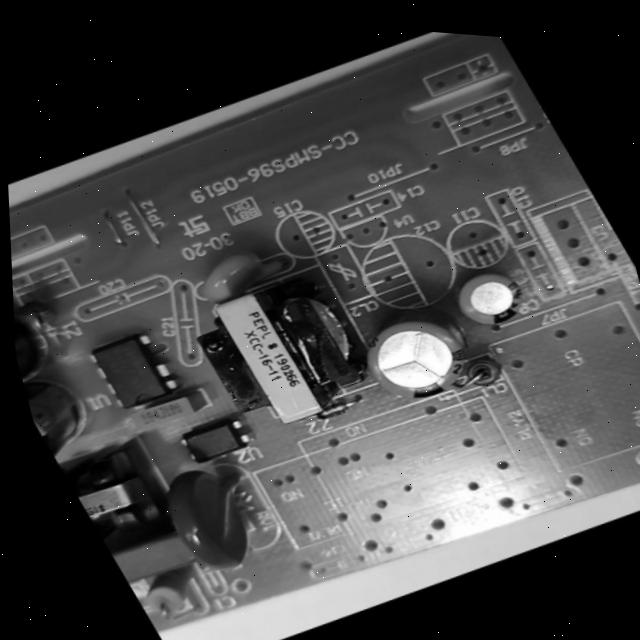Cap1: (337, 290, 499, 428)
Cap2: (442, 252, 543, 343)
Cap3: (21, 360, 116, 480)
Cap4: (13, 293, 66, 394)
MOSFET: (73, 314, 194, 427)
Mov: (141, 442, 297, 596)
Resistor: (129, 559, 214, 632)
Transformer: (168, 247, 396, 460), (57, 429, 187, 558)
